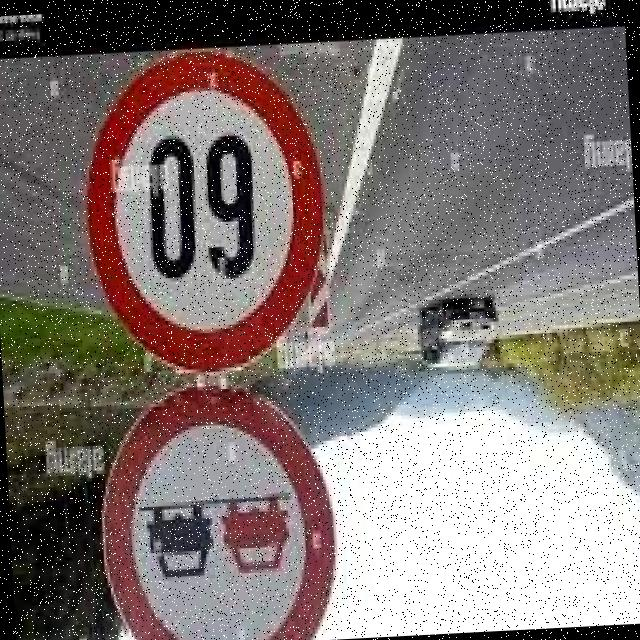speed_limit_60: (66, 46, 336, 380)
